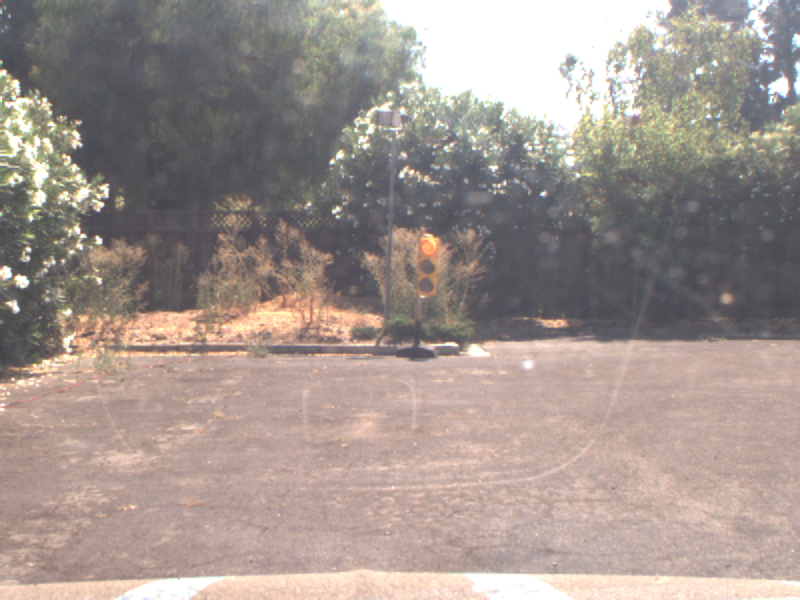red: (416, 232, 436, 298)
